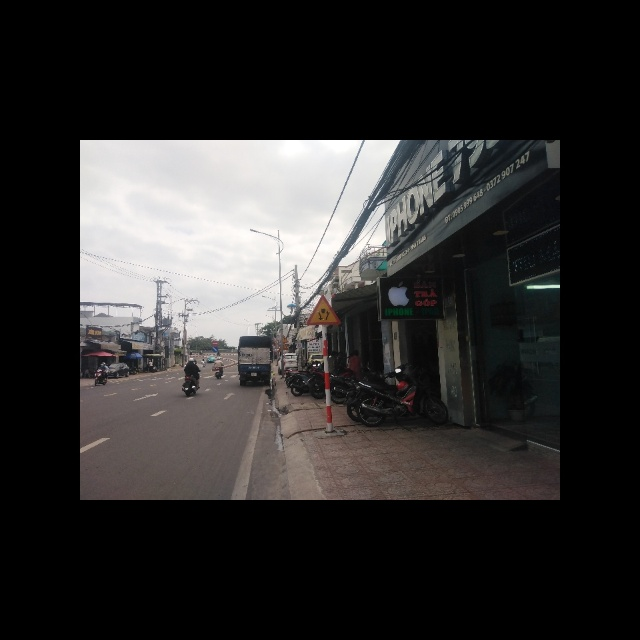Đường đôi: (307, 292, 343, 326)
